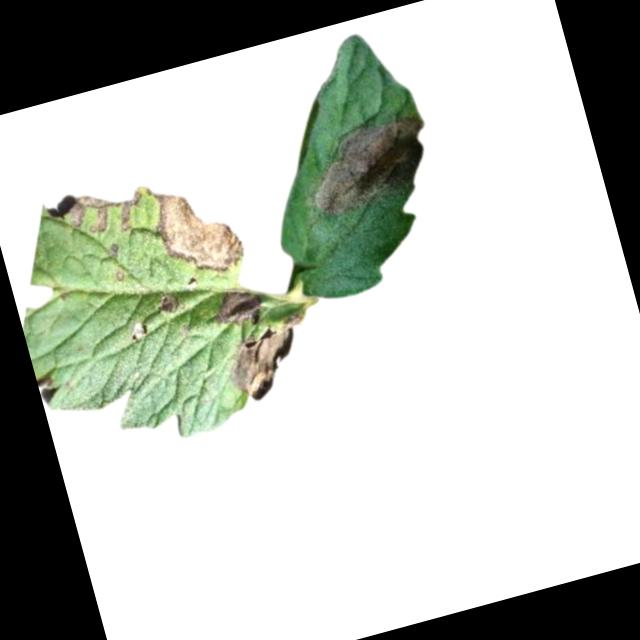Late_blight: (289, 102, 441, 220), (145, 170, 249, 286), (219, 310, 321, 406), (64, 179, 154, 244), (209, 280, 266, 334), (153, 287, 184, 318), (128, 318, 153, 343)
